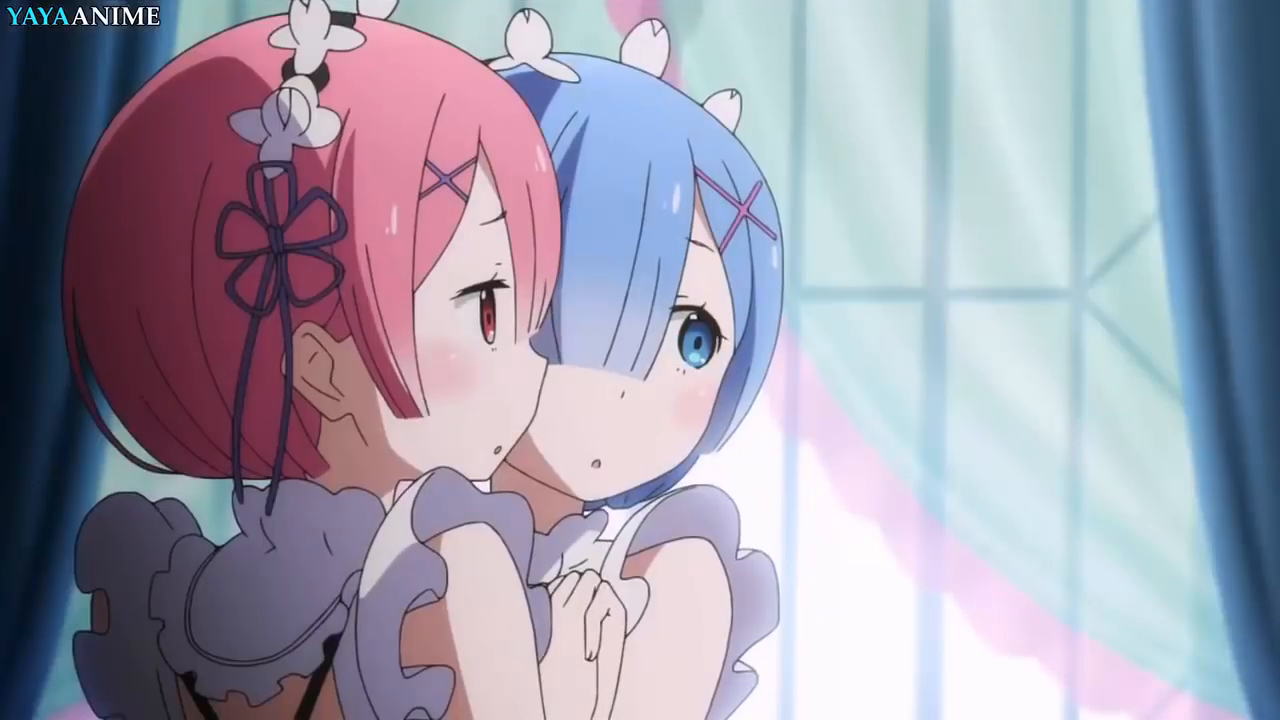REM: (450, 54, 800, 502)
